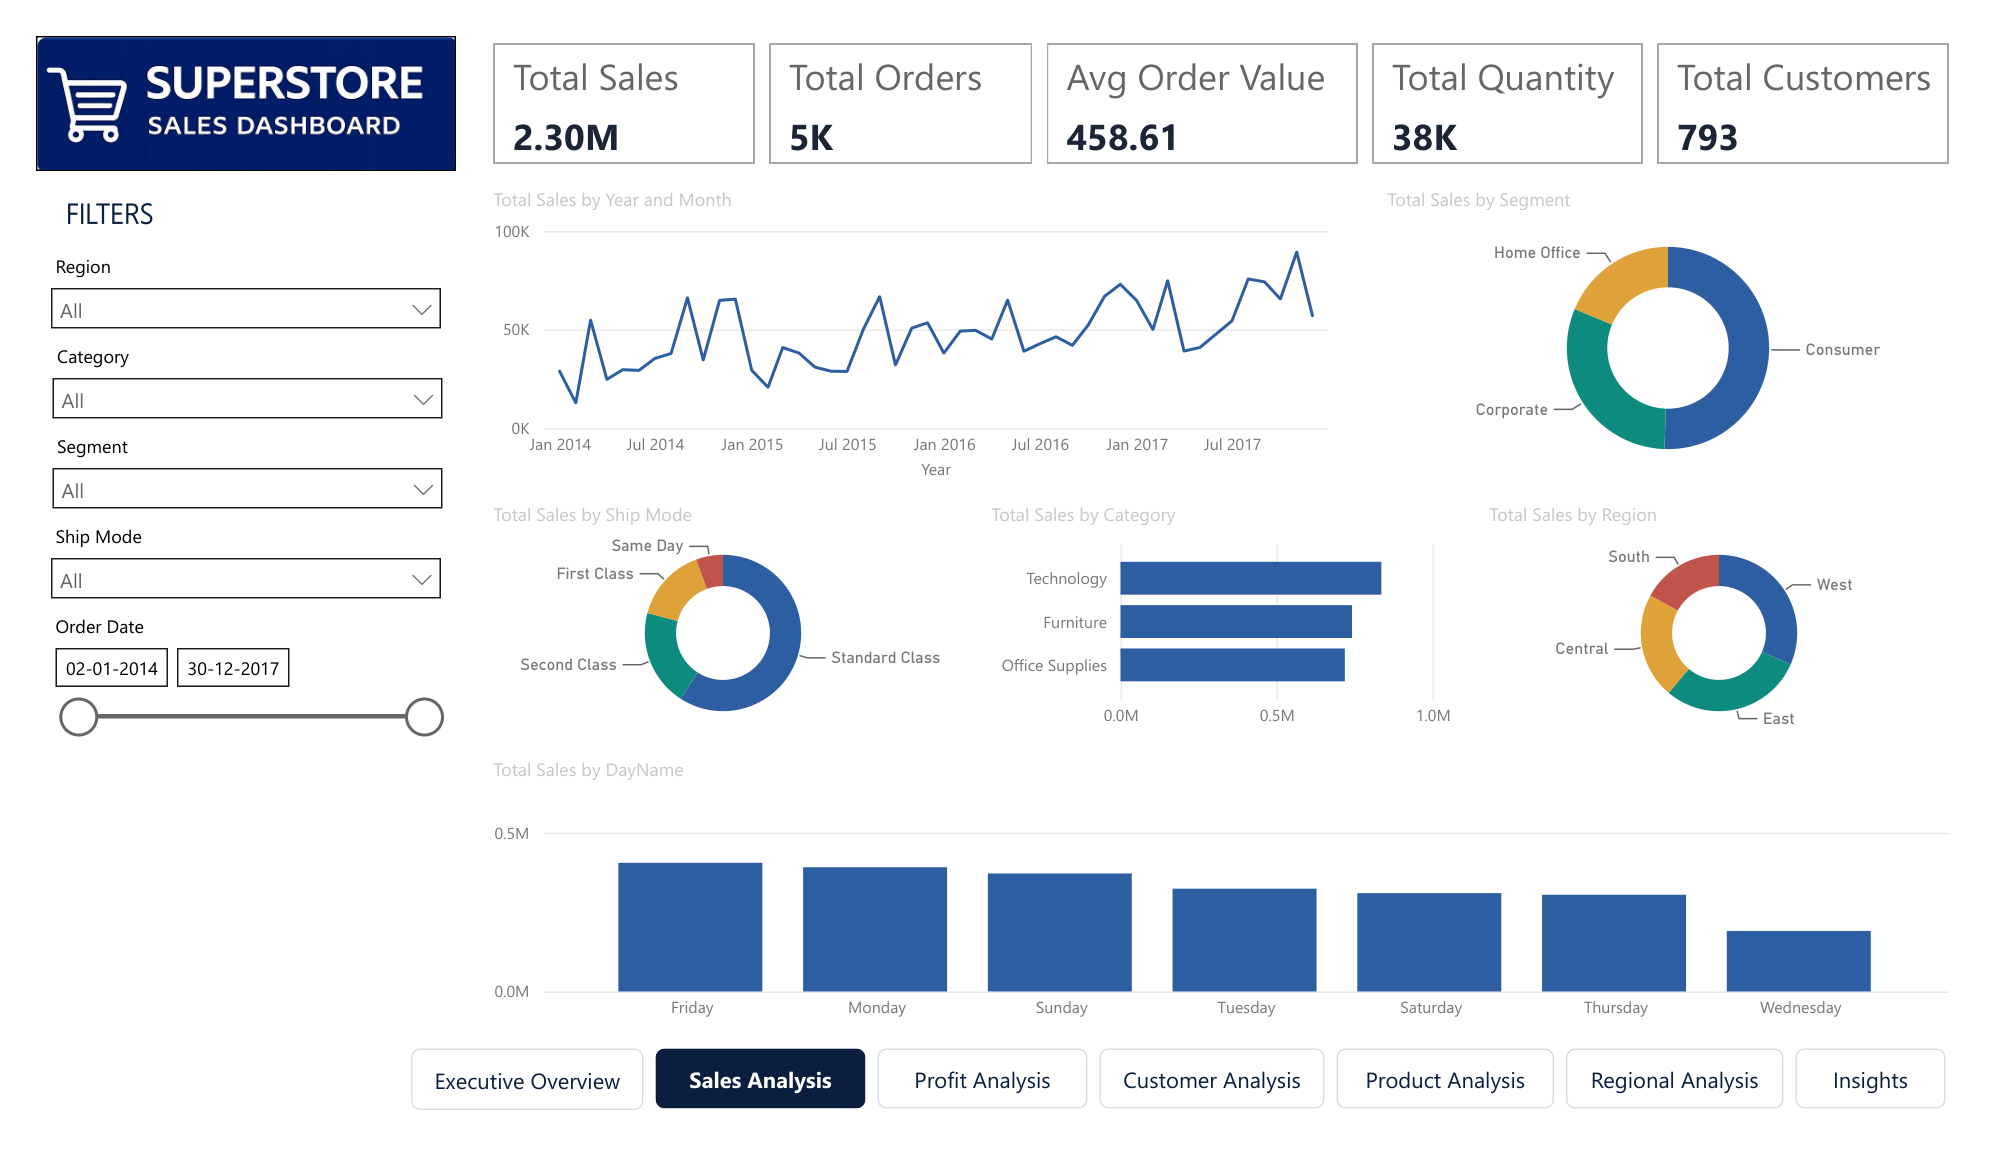

This screenshot's page, from the dashboard's own definition file:
{"tool":"powerbi","page":{"name":"Sales Analysis","canvas":[1280,720],"ordinal":1},"visuals":[{"type":"cardVisual","fields":{"Data":["Sample - Superstore 2.Total Sales"]},"box":[300,0,184.3,90],"z":0},{"type":"cardVisual","fields":{"Data":["Sample - Superstore 2.Total Orders"]},"box":[484.3,0,184.3,90],"z":1000},{"type":"cardVisual","fields":{"Data":["Sample - Superstore 2.Total Customers"]},"box":[1075.7,0,204.3,90],"z":2000},{"type":"cardVisual","fields":{"Data":["Sample - Superstore 2.Total Quantity"]},"box":[885.7,0,190,90],"z":3000},{"type":"cardVisual","fields":{"Data":["Sample - Superstore 2.Avg Order Value"]},"box":[668.6,0,217.1,90],"z":4000},{"type":"lineChart","fields":{"Y":["Sample - Superstore 2.Total Sales"],"Category":["Date.Date.Variation.Date Hierarchy.Year","Date.Date.Variation.Date Hierarchy.Month"]},"box":[300,100,576,200],"z":5000},{"type":"donutChart","fields":{"Category":["Sample - Superstore 2.Segment"],"Y":["Sample - Superstore 2.Total Sales"]},"box":[896,100,384.3,200],"z":6000},{"type":"donutChart","fields":{"Category":["Sample - Superstore 2.Ship Mode"],"Y":["Sample - Superstore 2.Total Sales"]},"box":[300,310,316,160],"z":7000},{"type":"donutChart","fields":{"Y":["Sample - Superstore 2.Total Sales"],"Category":["Sample - Superstore 2.Region"]},"box":[964,310,316,160],"z":8000},{"type":"clusteredBarChart","fields":{"Category":["Sample - Superstore 2.Category"],"Y":["Sample - Superstore 2.Total Sales"]},"box":[632,310,316,160],"z":9000},{"type":"clusteredColumnChart","fields":{"Category":["Date.DayName"],"Y":["Sample - Superstore 2.Total Sales"]},"box":[300,480,980,185],"z":10000},{"type":"actionButton","title":"sdgtsdgte","box":[250,675,155,40.7],"z":11000},{"type":"actionButton","box":[413,675,140,40],"z":12000},{"type":"actionButton","box":[867,675,145,40],"z":13000},{"type":"actionButton","box":[709,675,150,40],"z":14000},{"type":"actionButton","box":[561,675,140,40],"z":15000},{"type":"actionButton","box":[1020,675,145,40],"z":16000},{"type":"actionButton","box":[1173,675,100,40],"z":17000},{"type":"slicer","fields":{"Values":["Sample - Superstore 2.Region"]},"box":[0,140,280,55],"z":18000},{"type":"slicer","fields":{"Values":["Sample - Superstore 2.Category"]},"box":[1.1,200,280,55],"z":19000},{"type":"slicer","fields":{"Values":["Sample - Superstore 2.Order Date"]},"box":[0,380,280.3,130],"z":20000},{"type":"slicer","fields":{"Values":["Sample - Superstore 2.Segment"]},"box":[1.1,260,280,55],"z":21000},{"type":"slicer","fields":{"Values":["Sample - Superstore 2.Ship Mode"]},"box":[0,320,280,54.6],"z":22000},{"type":"image","box":[0,0,280.3,89.6],"z":23000},{"type":"textbox","box":[15,100,200,35],"z":24000}]}

Visuals, with their boxes in screenshot pixels (x1, y1, x2, y2), scaled from the page's 1280x720 canvas onto the 1992x1152 screenshot:
cardVisual - Sample - Superstore 2.Total Sales: locate(467, 0, 754, 144)
cardVisual - Sample - Superstore 2.Total Orders: locate(754, 0, 1041, 144)
cardVisual - Sample - Superstore 2.Total Customers: locate(1674, 0, 1991, 144)
cardVisual - Sample - Superstore 2.Total Quantity: locate(1378, 0, 1674, 144)
cardVisual - Sample - Superstore 2.Avg Order Value: locate(1041, 0, 1378, 144)
lineChart - Sample - Superstore 2.Total Sales x Date.Date.Variation.Date Hierarchy.Year: locate(467, 160, 1363, 480)
donutChart - Sample - Superstore 2.Segment x Sample - Superstore 2.Total Sales: locate(1394, 160, 1991, 480)
donutChart - Sample - Superstore 2.Ship Mode x Sample - Superstore 2.Total Sales: locate(467, 496, 959, 752)
donutChart - Sample - Superstore 2.Total Sales x Sample - Superstore 2.Region: locate(1500, 496, 1991, 752)
clusteredBarChart - Sample - Superstore 2.Category x Sample - Superstore 2.Total Sales: locate(984, 496, 1475, 752)
clusteredColumnChart - Date.DayName x Sample - Superstore 2.Total Sales: locate(467, 768, 1991, 1064)
"sdgtsdgte" actionButton: locate(389, 1080, 630, 1145)
actionButton: locate(643, 1080, 861, 1144)
actionButton: locate(1349, 1080, 1575, 1144)
actionButton: locate(1103, 1080, 1337, 1144)
actionButton: locate(873, 1080, 1091, 1144)
actionButton: locate(1587, 1080, 1813, 1144)
actionButton: locate(1825, 1080, 1981, 1144)
slicer - Sample - Superstore 2.Region: locate(0, 224, 436, 312)
slicer - Sample - Superstore 2.Category: locate(2, 320, 437, 408)
slicer - Sample - Superstore 2.Order Date: locate(0, 608, 436, 816)
slicer - Sample - Superstore 2.Segment: locate(2, 416, 437, 504)
slicer - Sample - Superstore 2.Ship Mode: locate(0, 512, 436, 599)
image: locate(0, 0, 436, 143)
textbox: locate(23, 160, 335, 216)
